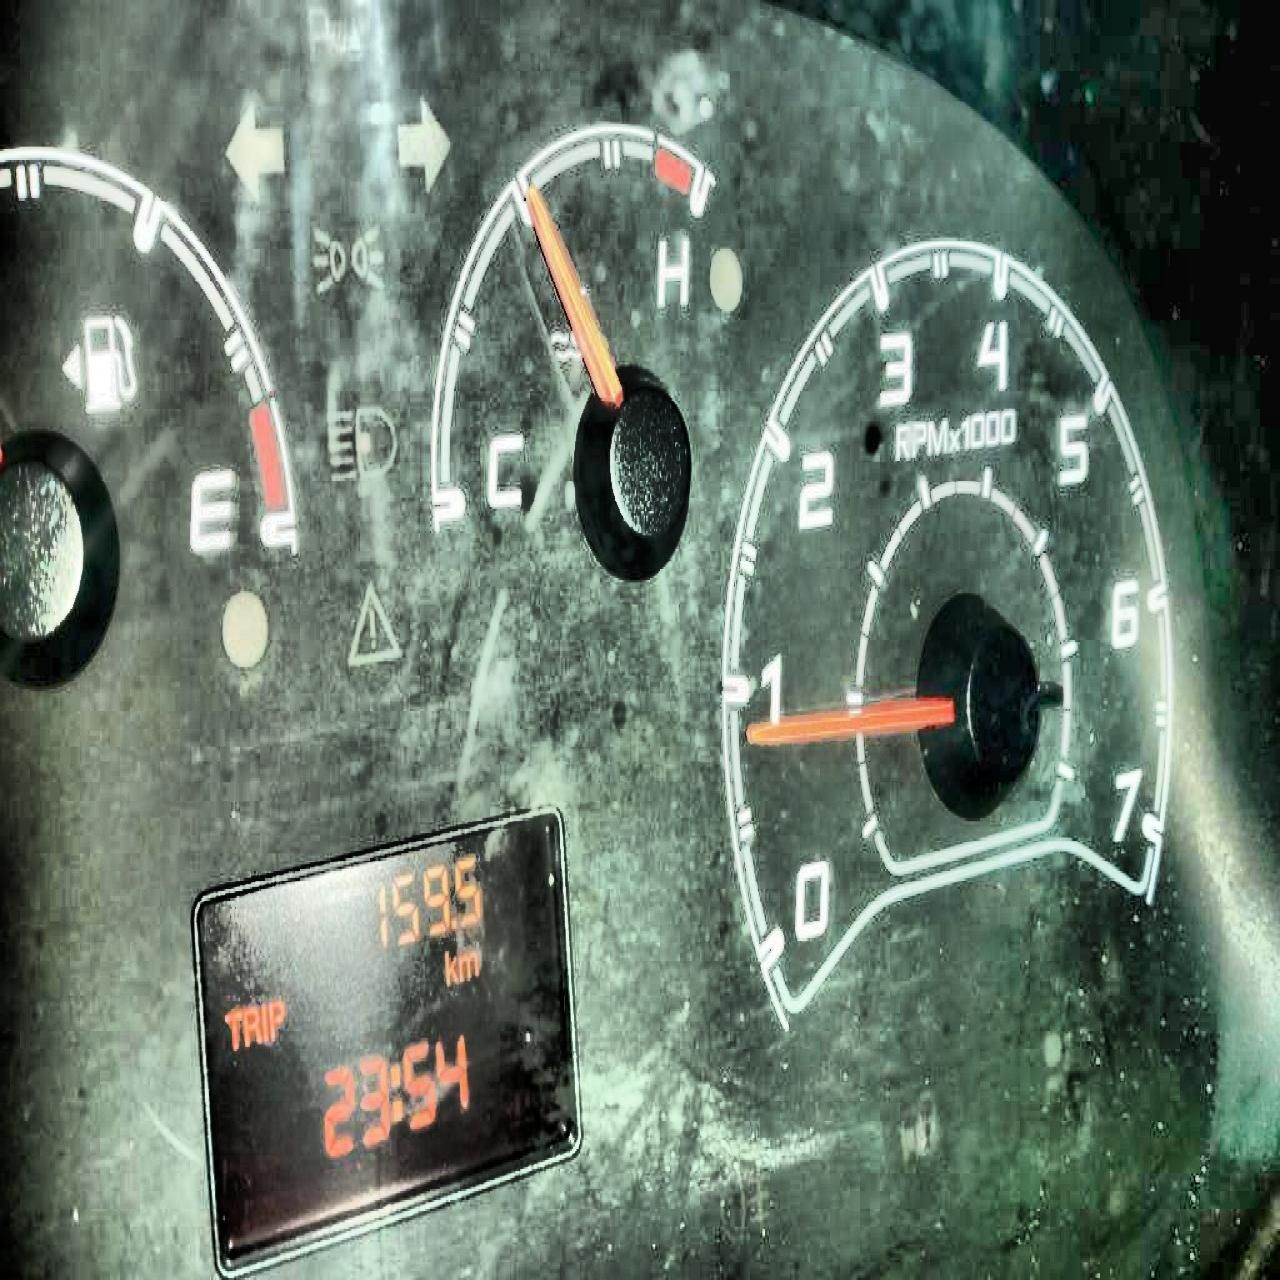-: (448, 913, 456, 931)
1: (375, 876, 390, 948)
2: (321, 1060, 353, 1158)
3: (358, 1054, 388, 1146)
4: (436, 1029, 469, 1111)
5: (402, 1036, 434, 1131), (390, 867, 418, 949), (454, 849, 482, 927)
9: (421, 860, 450, 938)
X: (390, 1057, 402, 1124), (267, 995, 284, 1042), (241, 1005, 260, 1044), (224, 1007, 240, 1051), (457, 949, 478, 980), (443, 942, 457, 987), (259, 998, 266, 1040)
odometer: (189, 798, 585, 1278)
